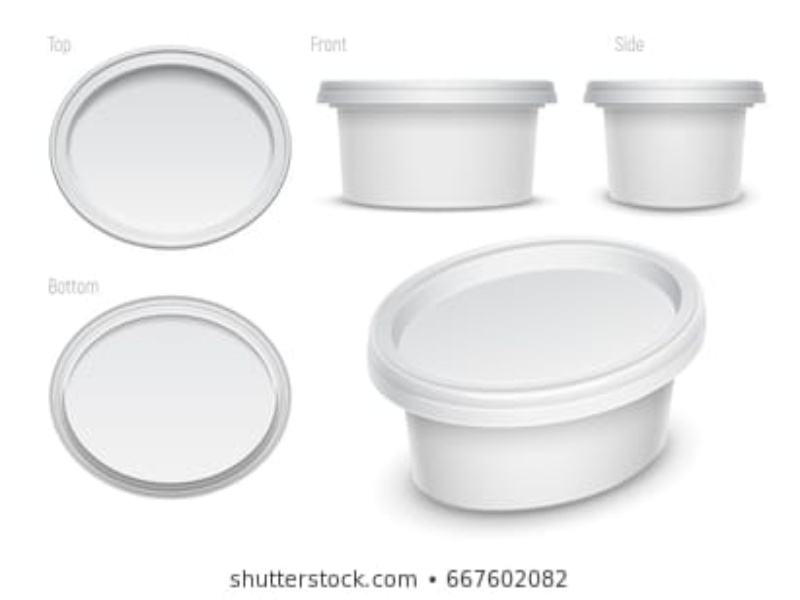plastic-container: (367, 232, 710, 513), (316, 70, 558, 217), (582, 77, 771, 207)
